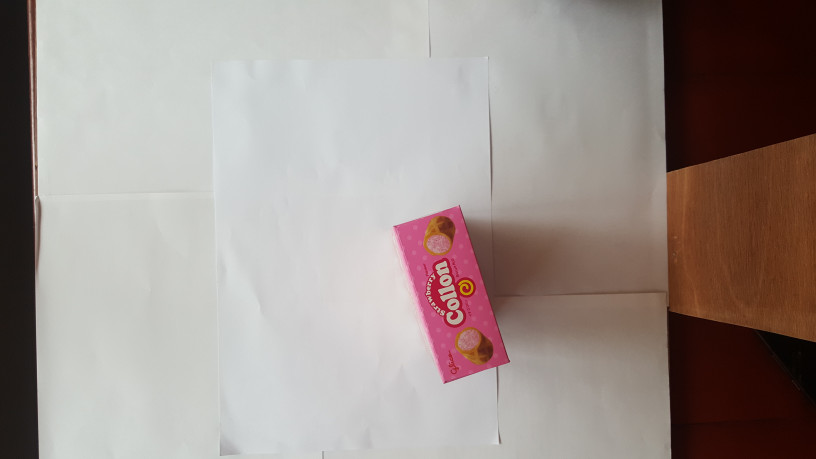collon-strawberry: (392, 204, 511, 385)
